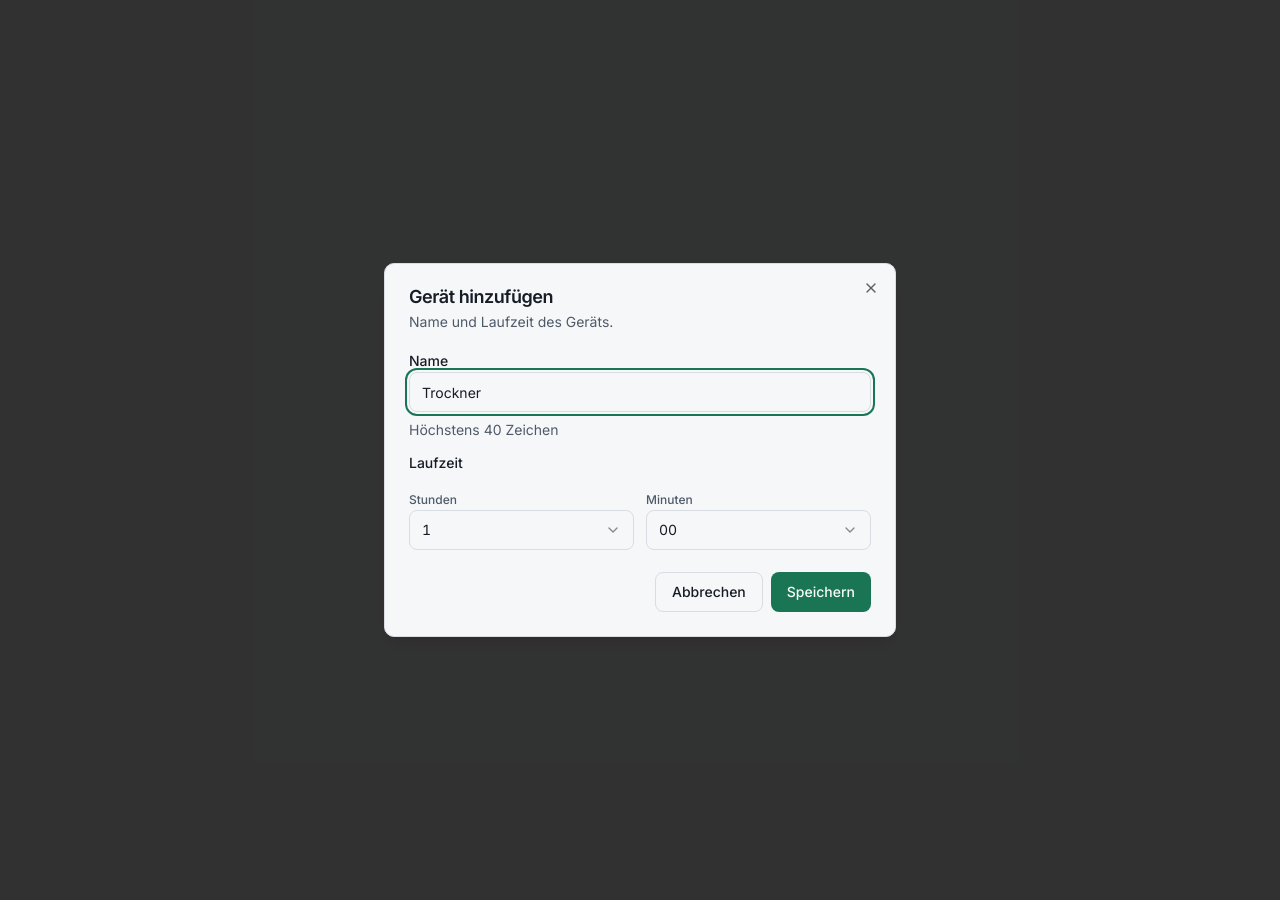
DeviceDialog — submit › shows a server duration error once below the selects
Step 1. Click the button "Speichern" → (821, 592), box [771, 572, 871, 612]
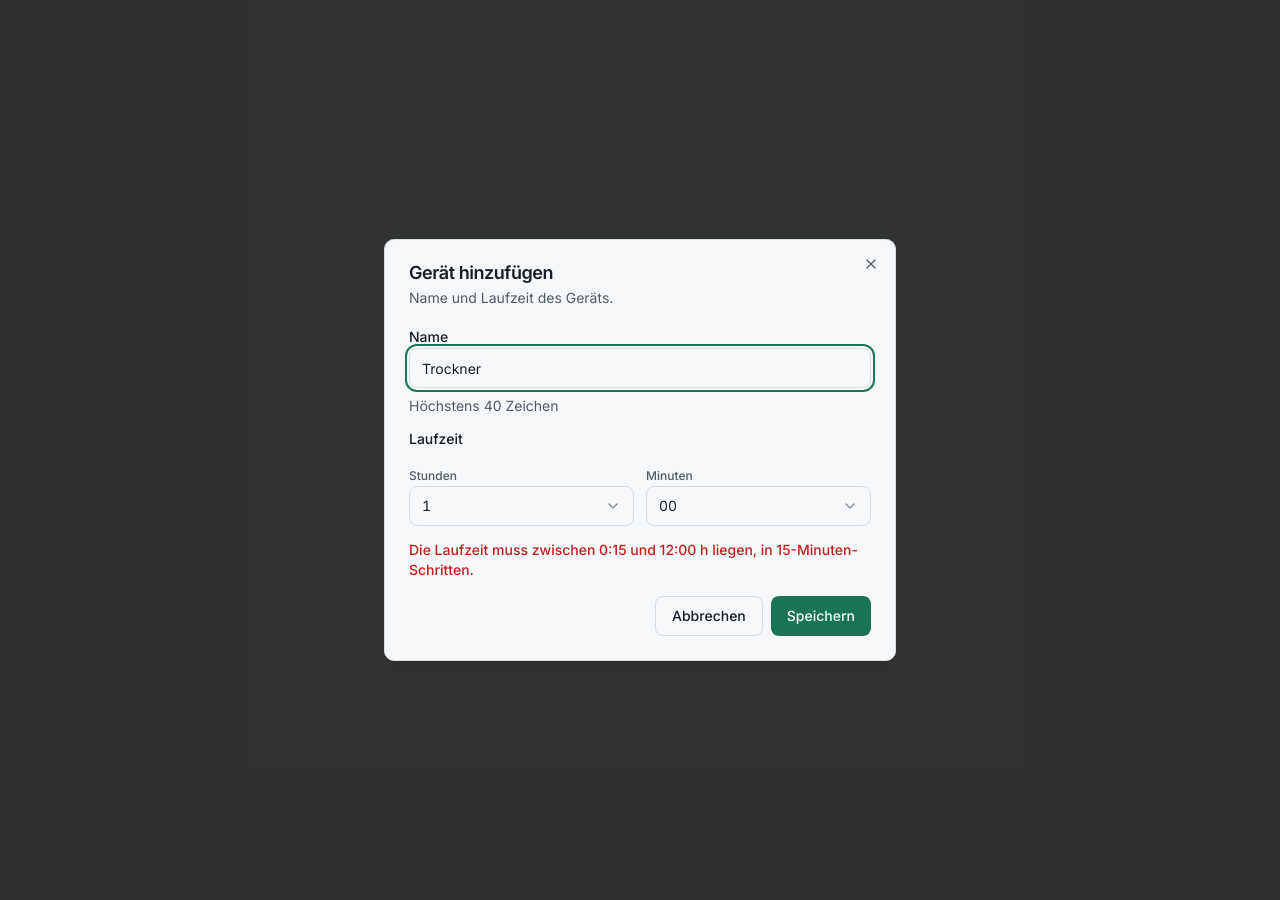
Now the text "Die Laufzeit muss zwischen 0:15 und 12:00 h liegen, in 15-Minuten-Schritten." is shown once, box [409, 540, 871, 580]
